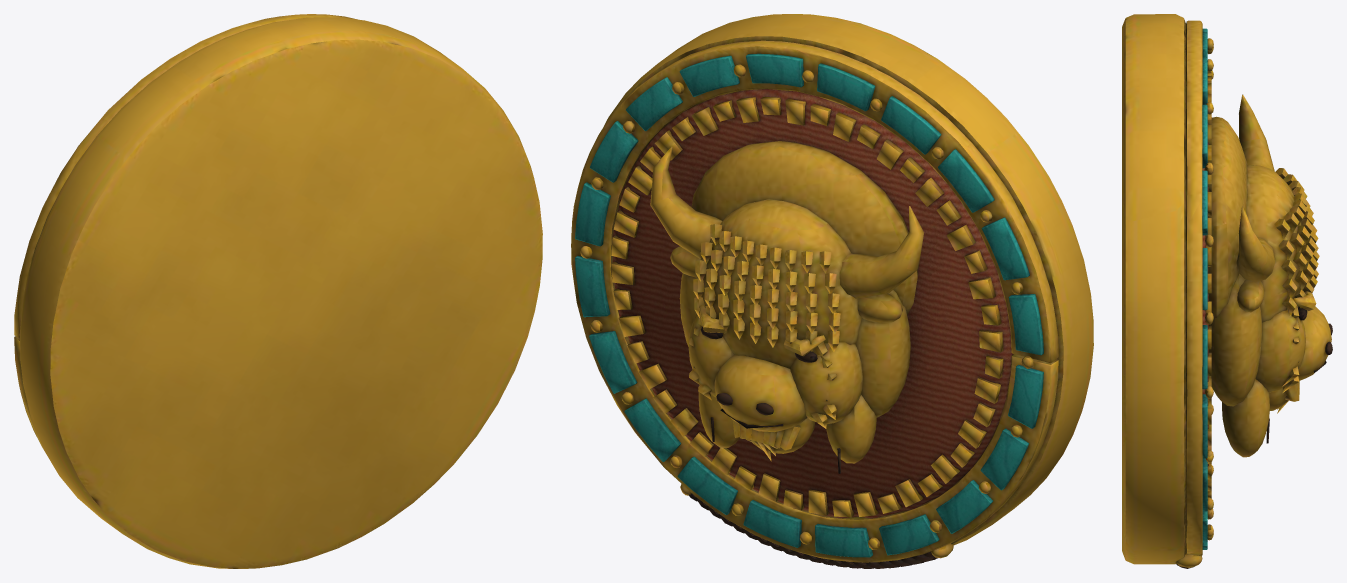
3 views of the same model, side by side, from view 1: azimuth 30°, elevation 25°; view 2: azimuth 150°, elevation 25°; view 3: azimuth 270°, elevation 25° (orthographic). The views are drawn at different scales.
Parts seen in each view (by area): view 1: Hammered_antique_sunset_gold; view 2: Hammered_antique_sunset_gold, Weathered_canyon_sandstone, Polished_turquoise, Dark_braided_leather_and_recessed_details; view 3: Hammered_antique_sunset_gold, Polished_turquoise, Dark_braided_leather_and_recessed_details.
Part boxes in pixels (bbox=[...]): Hammered_antique_sunset_gold: bbox=[14, 14, 542, 568]; Hammered_antique_sunset_gold: bbox=[571, 14, 1093, 562]; Weathered_canyon_sandstone: bbox=[612, 89, 1013, 518]; Polished_turquoise: bbox=[575, 53, 1043, 557]; Dark_braided_leather_and_recessed_details: bbox=[689, 327, 937, 568]; Hammered_antique_sunset_gold: bbox=[1122, 14, 1331, 567]; Polished_turquoise: bbox=[1202, 28, 1207, 549]; Dark_braided_leather_and_recessed_details: bbox=[1176, 306, 1332, 568].
Bounding box in the file's own units: 1.6 × 1.61 × 0.6129.
Materials: 4 (4 with a texture image).
